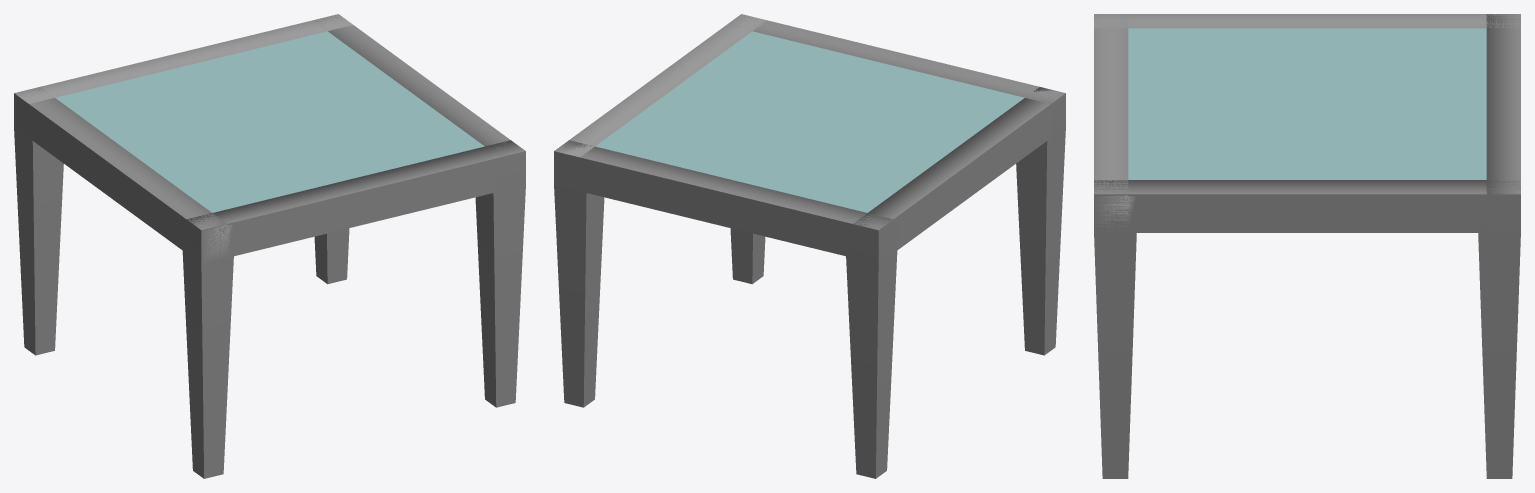
File: [simple]table_1_Z.FBX
The picture shows the model from 3 angles, left to right: view 1: azimuth 30°, elevation 25°; view 2: azimuth 150°, elevation 25°; view 3: azimuth 270°, elevation 25°; orthographic projection. The views are drawn at different scales.
Parts seen in each view (by area): view 1: table_wood, table_glass; view 2: table_wood, table_glass; view 3: table_wood, table_glass.
Boxes of the visible parts, x1,y1,x2,y2 form: table_wood: (14,14,525,478); table_glass: (55,31,484,212); table_wood: (554,14,1065,478); table_glass: (595,31,1024,212); table_wood: (1094,14,1520,478); table_glass: (1128,28,1486,179).
Bounding box in the file's own units: 100 × 100 × 74.5.
